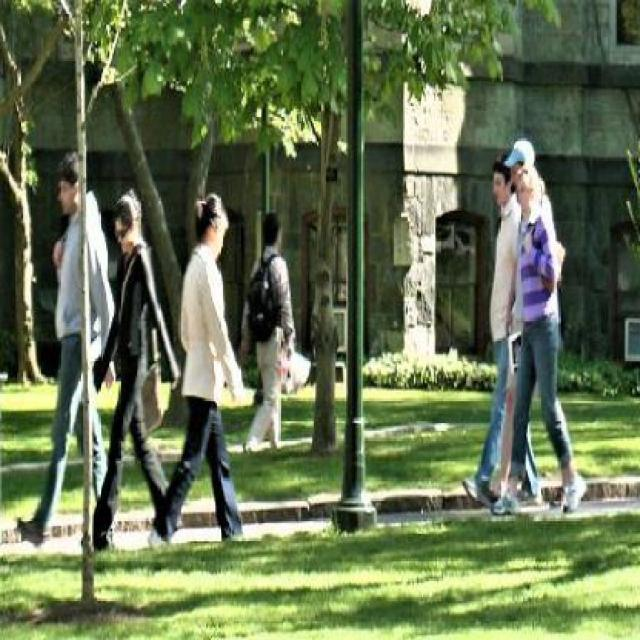Person: (17, 155, 114, 557), (154, 194, 249, 546), (504, 136, 588, 516), (90, 187, 175, 547), (465, 164, 526, 510), (244, 202, 298, 455)
